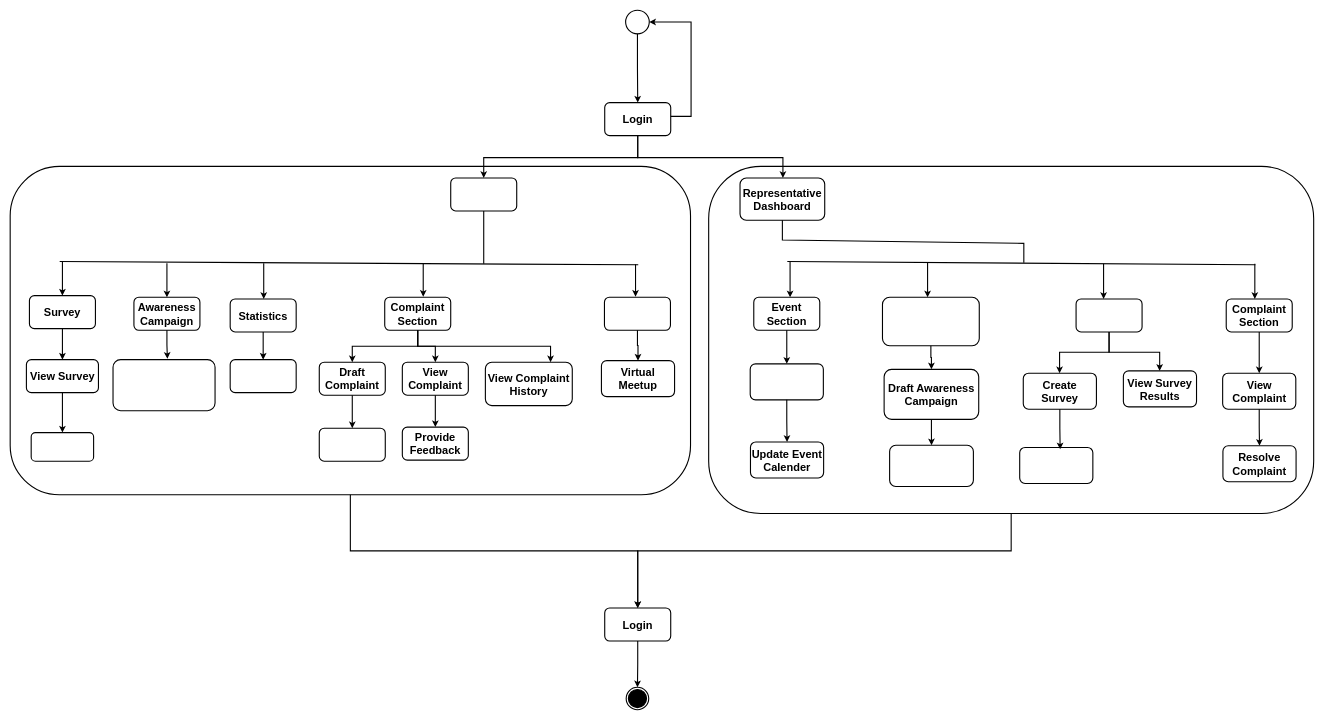
This 1323x719 diagram has some shape labels left out. The shapes that lost their labels are listed below. From the top down, each one's centre as x and y in pixels, then its label:
At point (483, 194): "Constituent Dashboard".
At point (637, 313): "Event Calender".
At point (931, 321): "Awareness Campaign Section".
At point (1108, 315): "Survey Section".
At point (163, 385): "View Awareness Campaign".
At point (262, 376): "View Stats".
At point (786, 381): "Add Event".
At point (62, 446): "Fill Survey".
At point (352, 444): "Submit Complaint".
At point (931, 465): "Post Awareness Campaign".
At point (1056, 465): "Distribute Survey".
